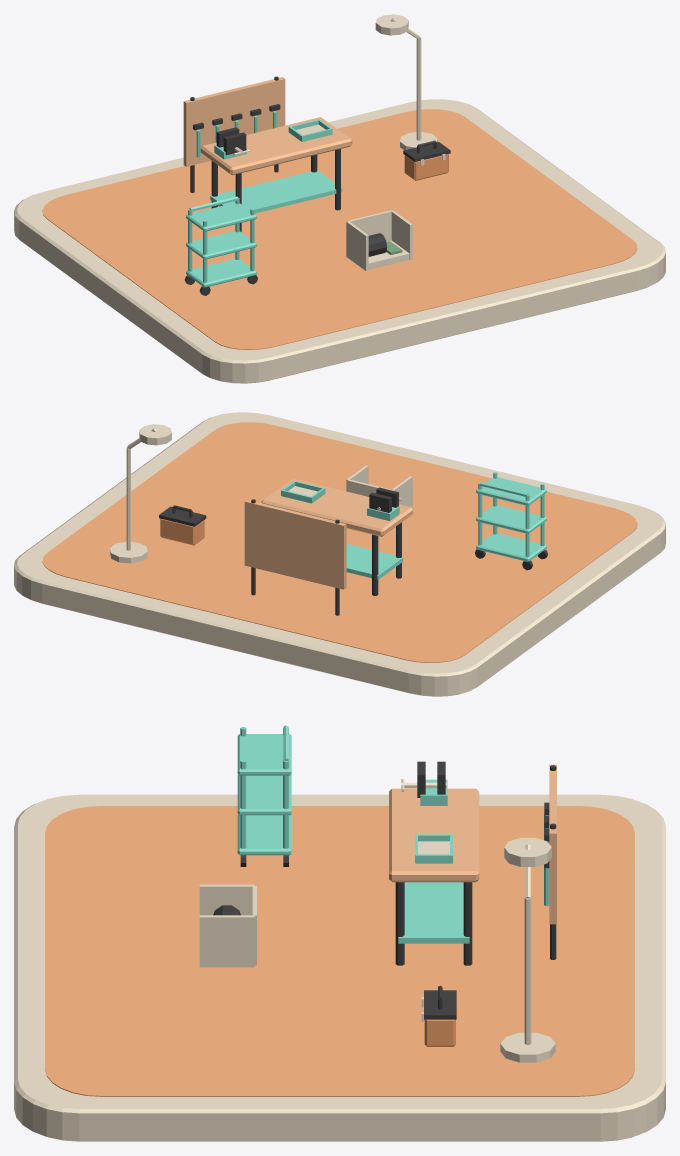
The model's file is room.fbx.
The picture shows the model from 3 angles, top to bottom: view 1: azimuth 30°, elevation 25°; view 2: azimuth 150°, elevation 25°; view 3: azimuth 270°, elevation 25°; orthographic projection. The views are drawn at different scales.
Parts seen in each view (by area): view 1: COM-02 Floor Surface, COM-01 Rounded Base Direct, Peg board, Worktop, Lower shelf, Tray.002, Tray.001, Tray, Side, Box, Back, Side.001 (+2 smaller); view 2: COM-02 Floor Surface, COM-01 Rounded Base Direct, Peg board, Worktop, Lower shelf, Tray, Tray.001, Tray.002, Box, Base.002, Lamp head, Lid (+1 smaller); view 3: COM-02 Floor Surface, COM-01 Rounded Base Direct, Worktop, Lower shelf, Side.001, Tray.002, Tray, Tray.001, Side, Base.002, Lamp head, Peg board (+5 smaller).
Boxes of the visible parts, <box> form: COM-02 Floor Surface: <box>42,109,637,349</box>; COM-01 Rounded Base Direct: <box>14,99,665,383</box>; Peg board: <box>183,77,285,166</box>; Worktop: <box>200,117,352,175</box>; Lower shelf: <box>210,170,342,213</box>; Tray.002: <box>186,203,256,231</box>; Tray.001: <box>186,231,256,259</box>; Tray: <box>186,259,256,287</box>; Side: <box>346,221,368,270</box>; Box: <box>404,154,448,180</box>; Back: <box>348,210,391,241</box>; Side.001: <box>391,210,412,260</box>; COM-02 Floor Surface: <box>42,422,637,662</box>; COM-01 Rounded Base Direct: <box>14,412,665,696</box>; Peg board: <box>244,499,346,589</box>; Worktop: <box>261,478,413,536</box>; Lower shelf: <box>346,543,403,579</box>; Tray: <box>476,533,546,561</box>; Tray.001: <box>476,505,546,533</box>; Tray.002: <box>476,477,546,505</box>; Box: <box>160,518,204,545</box>; Base.002: <box>110,541,147,563</box>; Lamp head: <box>139,424,171,445</box>; Lid: <box>159,506,206,526</box>; COM-02 Floor Surface: <box>45,806,634,1096</box>; COM-01 Rounded Base Direct: <box>14,794,665,1141</box>; Worktop: <box>389,788,479,882</box>; Lower shelf: <box>398,882,469,943</box>; Side.001: <box>199,915,254,967</box>; Tray.002: <box>237,734,291,775</box>; Tray: <box>237,814,291,855</box>; Tray.001: <box>237,775,291,815</box>; Side: <box>199,884,254,915</box>; Base.002: <box>500,1032,555,1062</box>; Lamp head: <box>504,837,551,866</box>; Peg board: <box>549,764,556,924</box>.
Bounding box in the file's own units: 600 × 196 × 520.
